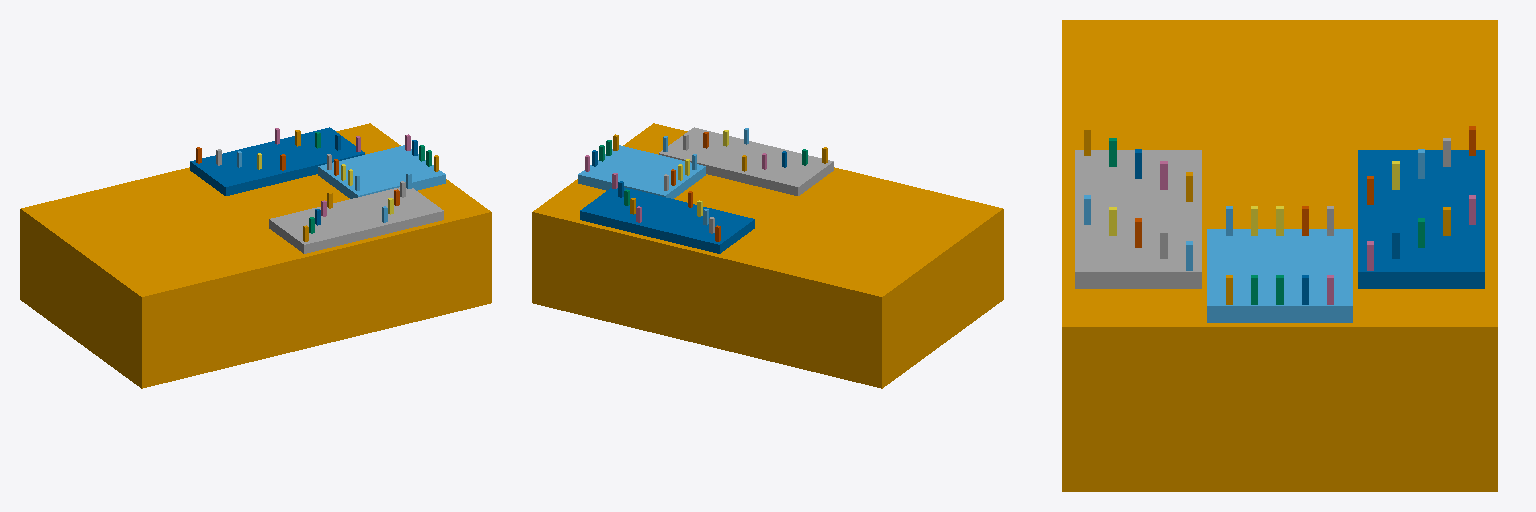
URDF robot description (carritov2):
<?xml version="1.0"?>
<robot name="carritov2">

  <link name="chasis1">
    <inertial>
      <origin xyz="0 0 0" rpy="0 0 0"/>
      <mass value="1.0" />
      <inertia ixx="0.0741666666667" ixy="0.0" ixz="0.0" iyy="0.0585416666667" iyz="0.0" izz="0.0260416666667"/>
    </inertial>
    <visual>
      <geometry>
        <box size="2 1.2 0.5"/>
      </geometry>
      <origin rpy="0 0 0" xyz="0 0 0"/>
    </visual>
  </link>

  <link name="chasis2">
    <inertial>
      <origin xyz="0 0 0" rpy="0 0 0"/>
      <mass value="1.0" />
      <inertia ixx="0.0741666666667" ixy="0.0" ixz="0.0" iyy="0.0585416666667" iyz="0.0" izz="0.0260416666667"/>
    </inertial>
    <visual>
      <geometry>
        <box size="0.5 0.4 0.05"/>
      </geometry>
      <material name="aluminium"/>
      <origin rpy="0 0 0" xyz="0.72 0 0.275"/>
    </visual>
  </link>

  <joint name="chasis1_to_chasis2" type="fixed">
    <parent link="chasis1"/>
    <child link="chasis2"/>
  </joint>

  <link name="soporte1_base1">
    <inertial>
      <origin xyz="0 0 0" rpy="0 0 0"/>
      <mass value="1.0" />
      <inertia ixx="0.0741666666667" ixy="0.0" ixz="0.0" iyy="0.0585416666667" iyz="0.0" izz="0.0260416666667"/>
    </inertial>
    <visual>
      <geometry>
        <box size="0.02 0.02 0.08"/>
      </geometry>
      <origin rpy="0 0 0" xyz="0.95 0 0.34"/>
    </visual>
  </link>

  <joint name="soporte1_base1_to_chasis2" type="fixed">
    <parent link="chasis2"/>
    <child link="soporte1_base1"/>
  </joint>

  <link name="soporte1_base2">
    <inertial>
      <origin xyz="0 0 0" rpy="0 0 0"/>
      <mass value="1.0" />
      <inertia ixx="0.0741666666667" ixy="0.0" ixz="0.0" iyy="0.0585416666667" iyz="0.0" izz="0.0260416666667"/>
    </inertial>
    <visual>
      <geometry>
        <box size="0.02 0.02 0.08"/>
      </geometry>
      <origin rpy="0 0 0" xyz="0.5 0 0.34"/>
    </visual>
  </link>

  <joint name="soporte1_base2_to_chasis2" type="fixed">
    <parent link="chasis2"/>
    <child link="soporte1_base2"/>
  </joint>

  <link name="soporte2_base1">
    <inertial>
      <origin xyz="0 0 0" rpy="0 0 0"/>
      <mass value="1.0" />
      <inertia ixx="0.0741666666667" ixy="0.0" ixz="0.0" iyy="0.0585416666667" iyz="0.0" izz="0.0260416666667"/>
    </inertial>
    <visual>
      <geometry>
        <box size="0.02 0.02 0.08"/>
      </geometry>
      <origin rpy="0 0 0" xyz="0.95 0.07 0.34"/>
    </visual>
  </link>

  <joint name="soporte2_base1_to_chasis2" type="fixed">
    <parent link="chasis2"/>
    <child link="soporte2_base1"/>
  </joint>

  <link name="soporte2_base2">
    <inertial>
      <origin xyz="0 0 0" rpy="0 0 0"/>
      <mass value="1.0" />
      <inertia ixx="0.0741666666667" ixy="0.0" ixz="0.0" iyy="0.0585416666667" iyz="0.0" izz="0.0260416666667"/>
    </inertial>
    <visual>
      <geometry>
        <box size="0.02 0.02 0.08"/>
      </geometry>
      <origin rpy="0 0 0" xyz="0.5 0.07 0.34"/>
    </visual>
  </link>

  <joint name="soporte2_base2_to_chasis2" type="fixed">
    <parent link="chasis2"/>
    <child link="soporte2_base2"/>
  </joint>

  <link name="soporte3_base1">
    <inertial>
      <origin xyz="0 0 0" rpy="0 0 0"/>
      <mass value="1.0" />
      <inertia ixx="0.0741666666667" ixy="0.0" ixz="0.0" iyy="0.0585416666667" iyz="0.0" izz="0.0260416666667"/>
    </inertial>
    <visual>
      <geometry>
        <box size="0.02 0.02 0.08"/>
      </geometry>
      <origin rpy="0 0 0" xyz="0.95 0.14 0.34"/>
    </visual>
  </link>

  <joint name="soporte3_base1_to_chasis2" type="fixed">
    <parent link="chasis2"/>
    <child link="soporte3_base1"/>
  </joint>

  <link name="soporte3_base2">
    <inertial>
      <origin xyz="0 0 0" rpy="0 0 0"/>
      <mass value="1.0" />
      <inertia ixx="0.0741666666667" ixy="0.0" ixz="0.0" iyy="0.0585416666667" iyz="0.0" izz="0.0260416666667"/>
    </inertial>
    <visual>
      <geometry>
        <box size="0.02 0.02 0.08"/>
      </geometry>
      <origin rpy="0 0 0" xyz="0.5 0.14 0.34"/>
    </visual>
  </link>

  <joint name="soporte3_base2_to_chasis2" type="fixed">
    <parent link="chasis2"/>
    <child link="soporte3_base2"/>
  </joint>

  <link name="soporte4_base1">
    <inertial>
      <origin xyz="0 0 0" rpy="0 0 0"/>
      <mass value="1.0" />
      <inertia ixx="0.0741666666667" ixy="0.0" ixz="0.0" iyy="0.0585416666667" iyz="0.0" izz="0.0260416666667"/>
    </inertial>
    <visual>
      <geometry>
        <box size="0.02 0.02 0.08"/>
      </geometry>
      <origin rpy="0 0 0" xyz="0.95 -0.14 0.34"/>
    </visual>
  </link>

  <joint name="soporte4_base1_to_chasis2" type="fixed">
    <parent link="chasis2"/>
    <child link="soporte4_base1"/>
  </joint>

  <link name="soporte4_base2">
    <inertial>
      <origin xyz="0 0 0" rpy="0 0 0"/>
      <mass value="1.0" />
      <inertia ixx="0.0741666666667" ixy="0.0" ixz="0.0" iyy="0.0585416666667" iyz="0.0" izz="0.0260416666667"/>
    </inertial>
    <visual>
      <geometry>
        <box size="0.02 0.02 0.08"/>
      </geometry>
      <origin rpy="0 0 0" xyz="0.5 -0.14 0.34"/>
    </visual>
  </link>

  <joint name="soporte4_base2_to_chasis2" type="fixed">
    <parent link="chasis2"/>
    <child link="soporte4_base2"/>
  </joint>

  <link name="soporte5_base1">
    <inertial>
      <origin xyz="0 0 0" rpy="0 0 0"/>
      <mass value="1.0" />
      <inertia ixx="0.0741666666667" ixy="0.0" ixz="0.0" iyy="0.0585416666667" iyz="0.0" izz="0.0260416666667"/>
    </inertial>
    <visual>
      <geometry>
        <box size="0.02 0.02 0.08"/>
      </geometry>
      <origin rpy="0 0 0" xyz="0.95 -0.07 0.34"/>
    </visual>
  </link>

  <joint name="soporte5_base1_to_chasis2" type="fixed">
    <parent link="chasis2"/>
    <child link="soporte5_base1"/>
  </joint>

  <link name="soporte5_base2">
    <inertial>
      <origin xyz="0 0 0" rpy="0 0 0"/>
      <mass value="1.0" />
      <inertia ixx="0.0741666666667" ixy="0.0" ixz="0.0" iyy="0.0585416666667" iyz="0.0" izz="0.0260416666667"/>
    </inertial>
    <visual>
      <geometry>
        <box size="0.02 0.02 0.08"/>
      </geometry>
      <origin rpy="0 0 0" xyz="0.5 -0.07 0.34"/>
    </visual>
  </link>

  <joint name="soporte5_base2_to_chasis2" type="fixed">
    <parent link="chasis2"/>
    <child link="soporte5_base2"/>
  </joint>

  <link name="chasis3">
    <inertial>
      <origin xyz="0 0 0" rpy="0 0 0"/>
      <mass value="1.0" />
      <inertia ixx="0.0741666666667" ixy="0.0" ixz="0.0" iyy="0.0585416666667" iyz="0.0" izz="0.0260416666667"/>
    </inertial>
    <visual>
      <geometry>
        <box size="0.8 0.35 0.05"/>
      </geometry>
      <material name="aluminium"/>
      <origin rpy="0 0 0" xyz="0.35 0.39 0.275"/>
    </visual>
  </link>

  <joint name="chasis1_to_chasis3" type="fixed">
    <parent link="chasis1"/>
    <child link="chasis3"/>
  </joint>

  <link name="soporte1_base3">
    <inertial>
      <origin xyz="0 0 0" rpy="0 0 0"/>
      <mass value="1.0" />
      <inertia ixx="0.0741666666667" ixy="0.0" ixz="0.0" iyy="0.0585416666667" iyz="0.0" izz="0.0260416666667"/>
    </inertial>
    <visual>
      <geometry>
        <box size="0.02 0.02 0.08"/>
      </geometry>
      <origin rpy="0 0 0" xyz="-0.02 0.53 0.34"/>
    </visual>
  </link>

  <joint name="soporte1_base3_to_chasis3" type="fixed">
    <parent link="chasis3"/>
    <child link="soporte1_base3"/>
  </joint>

  <link name="soporte1_base4">
    <inertial>
      <origin xyz="0 0 0" rpy="0 0 0"/>
      <mass value="1.0" />
      <inertia ixx="0.0741666666667" ixy="0.0" ixz="0.0" iyy="0.0585416666667" iyz="0.0" izz="0.0260416666667"/>
    </inertial>
    <visual>
      <geometry>
        <box size="0.02 0.02 0.08"/>
      </geometry>
      <origin rpy="0 0 0" xyz="0.43 0.53 0.34"/>
    </visual>
  </link>

  <joint name="soporte1_base4_to_chasis3" type="fixed">
    <parent link="chasis3"/>
    <child link="soporte1_base4"/>
  </joint>

  <link name="soporte2_base3">
    <inertial>
      <origin xyz="0 0 0" rpy="0 0 0"/>
      <mass value="1.0" />
      <inertia ixx="0.0741666666667" ixy="0.0" ixz="0.0" iyy="0.0585416666667" iyz="0.0" izz="0.0260416666667"/>
    </inertial>
    <visual>
      <geometry>
        <box size="0.02 0.02 0.08"/>
      </geometry>
      <origin rpy="0 0 0" xyz="0.055 0.46 0.34"/>
    </visual>
  </link>

  <joint name="soporte2_base3_to_chasis3" type="fixed">
    <parent link="chasis3"/>
    <child link="soporte2_base3"/>
  </joint>

  <link name="soporte2_base4">
    <inertial>
      <origin xyz="0 0 0" rpy="0 0 0"/>
      <mass value="1.0" />
      <inertia ixx="0.0741666666667" ixy="0.0" ixz="0.0" iyy="0.0585416666667" iyz="0.0" izz="0.0260416666667"/>
    </inertial>
    <visual>
      <geometry>
        <box size="0.02 0.02 0.08"/>
      </geometry>
      <origin rpy="0 0 0" xyz="0.505 0.46 0.34"/>
    </visual>
  </link>

  <joint name="soporte2_base4_to_chasis3" type="fixed">
    <parent link="chasis3"/>
    <child link="soporte2_base4"/>
  </joint>

  <link name="soporte3_base3">
    <inertial>
      <origin xyz="0 0 0" rpy="0 0 0"/>
      <mass value="1.0" />
      <inertia ixx="0.0741666666667" ixy="0.0" ixz="0.0" iyy="0.0585416666667" iyz="0.0" izz="0.0260416666667"/>
    </inertial>
    <visual>
      <geometry>
        <box size="0.02 0.02 0.08"/>
      </geometry>
      <origin rpy="0 0 0" xyz="0.13 0.39 0.34"/>
    </visual>
  </link>

  <joint name="soporte3_base3_to_chasis3" type="fixed">
    <parent link="chasis3"/>
    <child link="soporte3_base3"/>
  </joint>

  <link name="soporte3_base4">
    <inertial>
      <origin xyz="0 0 0" rpy="0 0 0"/>
      <mass value="1.0" />
      <inertia ixx="0.0741666666667" ixy="0.0" ixz="0.0" iyy="0.0585416666667" iyz="0.0" izz="0.0260416666667"/>
    </inertial>
    <visual>
      <geometry>
        <box size="0.02 0.02 0.08"/>
      </geometry>
      <origin rpy="0 0 0" xyz="0.58 0.39 0.34"/>
    </visual>
  </link>

  <joint name="soporte3_base4_to_chasis3" type="fixed">
    <parent link="chasis3"/>
    <child link="soporte3_base4"/>
  </joint>

  <link name="soporte4_base3">
    <inertial>
      <origin xyz="0 0 0" rpy="0 0 0"/>
      <mass value="1.0" />
      <inertia ixx="0.0741666666667" ixy="0.0" ixz="0.0" iyy="0.0585416666667" iyz="0.0" izz="0.0260416666667"/>
    </inertial>
    <visual>
      <geometry>
        <box size="0.02 0.02 0.08"/>
      </geometry>
      <origin rpy="0 0 0" xyz="0.205 0.32 0.34"/>
    </visual>
  </link>

  <joint name="soporte4_base3_to_chasis3" type="fixed">
    <parent link="chasis3"/>
    <child link="soporte4_base3"/>
  </joint>

  <link name="soporte4_base4">
    <inertial>
      <origin xyz="0 0 0" rpy="0 0 0"/>
      <mass value="1.0" />
      <inertia ixx="0.0741666666667" ixy="0.0" ixz="0.0" iyy="0.0585416666667" iyz="0.0" izz="0.0260416666667"/>
    </inertial>
    <visual>
      <geometry>
        <box size="0.02 0.02 0.08"/>
      </geometry>
      <origin rpy="0 0 0" xyz="0.655 0.32 0.34"/>
    </visual>
  </link>

  <joint name="soporte4_base4_to_chasis3" type="fixed">
    <parent link="chasis3"/>
    <child link="soporte4_base4"/>
  </joint>

  <link name="soporte5_base3">
    <inertial>
      <origin xyz="0 0 0" rpy="0 0 0"/>
      <mass value="1.0" />
      <inertia ixx="0.0741666666667" ixy="0.0" ixz="0.0" iyy="0.0585416666667" iyz="0.0" izz="0.0260416666667"/>
    </inertial>
    <visual>
      <geometry>
        <box size="0.02 0.02 0.08"/>
      </geometry>
      <origin rpy="0 0 0" xyz="0.30 0.25 0.34"/>
    </visual>
  </link>

  <joint name="soporte5_base3_to_chasis3" type="fixed">
    <parent link="chasis3"/>
    <child link="soporte5_base3"/>
  </joint>

  <link name="soporte5_base4">
    <inertial>
      <origin xyz="0 0 0" rpy="0 0 0"/>
      <mass value="1.0" />
      <inertia ixx="0.0741666666667" ixy="0.0" ixz="0.0" iyy="0.0585416666667" iyz="0.0" izz="0.0260416666667"/>
    </inertial>
    <visual>
      <geometry>
        <box size="0.02 0.02 0.08"/>
      </geometry>
      <origin rpy="0 0 0" xyz="0.73 0.25 0.34"/>
    </visual>
  </link>

  <joint name="soporte5_base4_to_chasis3" type="fixed">
    <parent link="chasis3"/>
    <child link="soporte5_base4"/>
  </joint>

  <link name="chasis4">
    <inertial>
      <origin xyz="0 0 0" rpy="0 0 0"/>
      <mass value="1.0" />
      <inertia ixx="0.0741666666667" ixy="0.0" ixz="0.0" iyy="0.0585416666667" iyz="0.0" izz="0.0260416666667"/>
    </inertial>
    <visual>
      <geometry>
        <box size="0.8 0.35 0.05"/>
      </geometry>
      <material name="aluminium"/>
      <origin rpy="0 0 0" xyz="0.35 -0.39 0.275"/>
    </visual>
  </link>

  <joint name="chasis1_to_chasis4" type="fixed">
    <parent link="chasis1"/>
    <child link="chasis4"/>
  </joint>

  <link name="soporte1_base5">
    <inertial>
      <origin xyz="0 0 0" rpy="0 0 0"/>
      <mass value="1.0" />
      <inertia ixx="0.0741666666667" ixy="0.0" ixz="0.0" iyy="0.0585416666667" iyz="0.0" izz="0.0260416666667"/>
    </inertial>
    <visual>
      <geometry>
        <box size="0.02 0.02 0.08"/>
      </geometry>
      <origin rpy="0 0 0" xyz="-0.02 -0.53 0.34"/>
    </visual>
  </link>

  <joint name="soporte1_base5_to_chasis4" type="fixed">
    <parent link="chasis4"/>
    <child link="soporte1_base5"/>
  </joint>

  <link name="soporte1_base6">
    <inertial>
      <origin xyz="0 0 0" rpy="0 0 0"/>
      <mass value="1.0" />
      <inertia ixx="0.0741666666667" ixy="0.0" ixz="0.0" iyy="0.0585416666667" iyz="0.0" izz="0.0260416666667"/>
    </inertial>
    <visual>
      <geometry>
        <box size="0.02 0.02 0.08"/>
      </geometry>
      <origin rpy="0 0 0" xyz="0.43 -0.53 0.34"/>
    </visual>
  </link>

  <joint name="soporte1_base6_to_chasis4" type="fixed">
    <parent link="chasis4"/>
    <child link="soporte1_base6"/>
  </joint>

  <link name="soporte2_base5">
    <inertial>
      <origin xyz="0 0 0" rpy="0 0 0"/>
      <mass value="1.0" />
      <inertia ixx="0.0741666666667" ixy="0.0" ixz="0.0" iyy="0.0585416666667" iyz="0.0" izz="0.0260416666667"/>
    </inertial>
    <visual>
      <geometry>
        <box size="0.02 0.02 0.08"/>
      </geometry>
      <origin rpy="0 0 0" xyz="0.055 -0.46 0.34"/>
    </visual>
  </link>

  <joint name="soporte2_base5_to_chasis4" type="fixed">
    <parent link="chasis4"/>
    <child link="soporte2_base5"/>
  </joint>

  <link name="soporte2_base6">
    <inertial>
      <origin xyz="0 0 0" rpy="0 0 0"/>
      <mass value="1.0" />
      <inertia ixx="0.0741666666667" ixy="0.0" ixz="0.0" iyy="0.0585416666667" iyz="0.0" izz="0.0260416666667"/>
    </inertial>
    <visual>
      <geometry>
        <box size="0.02 0.02 0.08"/>
      </geometry>
      <origin rpy="0 0 0" xyz="0.505 -0.46 0.34"/>
    </visual>
  </link>

  <joint name="soporte2_base6_to_chasis4" type="fixed">
    <parent link="chasis4"/>
    <child link="soporte2_base6"/>
  </joint>

  <link name="soporte3_base5">
    <inertial>
      <origin xyz="0 0 0" rpy="0 0 0"/>
      <mass value="1.0" />
      <inertia ixx="0.0741666666667" ixy="0.0" ixz="0.0" iyy="0.0585416666667" iyz="0.0" izz="0.0260416666667"/>
    </inertial>
    <visual>
      <geometry>
        <box size="0.02 0.02 0.08"/>
      </geometry>
      <origin rpy="0 0 0" xyz="0.13 -0.39 0.34"/>
    </visual>
  </link>

  <joint name="soporte3_base5_to_chasis4" type="fixed">
    <parent link="chasis4"/>
    <child link="soporte3_base5"/>
  </joint>

  <link name="soporte3_base6">
    <inertial>
      <origin xyz="0 0 0" rpy="0 0 0"/>
      <mass value="1.0" />
      <inertia ixx="0.0741666666667" ixy="0.0" ixz="0.0" iyy="0.0585416666667" iyz="0.0" izz="0.0260416666667"/>
    </inertial>
    <visual>
      <geometry>
        <box size="0.02 0.02 0.08"/>
      </geometry>
      <origin rpy="0 0 0" xyz="0.58 -0.39 0.34"/>
    </visual>
  </link>

  <joint name="soporte3_base6_to_chasis4" type="fixed">
    <parent link="chasis4"/>
    <child link="soporte3_base6"/>
  </joint>

  <link name="soporte4_base5">
    <inertial>
      <origin xyz="0 0 0" rpy="0 0 0"/>
      <mass value="1.0" />
      <inertia ixx="0.0741666666667" ixy="0.0" ixz="0.0" iyy="0.0585416666667" iyz="0.0" izz="0.0260416666667"/>
    </inertial>
    <visual>
      <geometry>
        <box size="0.02 0.02 0.08"/>
      </geometry>
      <origin rpy="0 0 0" xyz="0.205 -0.32 0.34"/>
    </visual>
  </link>

  <joint name="soporte4_base5_to_chasis4" type="fixed">
    <parent link="chasis4"/>
    <child link="soporte4_base5"/>
  </joint>

  <link name="soporte4_base6">
    <inertial>
      <origin xyz="0 0 0" rpy="0 0 0"/>
      <mass value="1.0" />
      <inertia ixx="0.0741666666667" ixy="0.0" ixz="0.0" iyy="0.0585416666667" iyz="0.0" izz="0.0260416666667"/>
    </inertial>
    <visual>
      <geometry>
        <box size="0.02 0.02 0.08"/>
      </geometry>
      <origin rpy="0 0 0" xyz="0.655 -0.32 0.34"/>
    </visual>
  </link>

  <joint name="soporte4_base6_to_chasis4" type="fixed">
    <parent link="chasis4"/>
    <child link="soporte4_base6"/>
  </joint>

  <link name="soporte5_base5">
    <inertial>
      <origin xyz="0 0 0" rpy="0 0 0"/>
      <mass value="1.0" />
      <inertia ixx="0.0741666666667" ixy="0.0" ixz="0.0" iyy="0.0585416666667" iyz="0.0" izz="0.0260416666667"/>
    </inertial>
    <visual>
      <geometry>
        <box size="0.02 0.02 0.08"/>
      </geometry>
      <origin rpy="0 0 0" xyz="0.28 -0.25 0.34"/>
    </visual>
  </link>

  <joint name="soporte5_base5_to_chasis4" type="fixed">
    <parent link="chasis4"/>
    <child link="soporte5_base5"/>
  </joint>

  <link name="soporte5_base6">
    <inertial>
      <origin xyz="0 0 0" rpy="0 0 0"/>
      <mass value="1.0" />
      <inertia ixx="0.0741666666667" ixy="0.0" ixz="0.0" iyy="0.0585416666667" iyz="0.0" izz="0.0260416666667"/>
    </inertial>
    <visual>
      <geometry>
        <box size="0.02 0.02 0.08"/>
      </geometry>
      <origin rpy="0 0 0" xyz="0.73 -0.25 0.34"/>
    </visual>
  </link>

  <joint name="soporte5_base6_to_chasis4" type="fixed">
    <parent link="chasis4"/>
    <child link="soporte5_base6"/>
  </joint>



  <!--<gazebo>
    <plugin name="gazebo_ros_control" filename="libgazebo_ros_control.so">
      <robotNamespace>/</robotNamespace>
    </plugin>
  </gazebo>-->

  <gazebo>
    <static>true</static>
  </gazebo>

</robot>

--- Facts derived from the render (not from the file) ---
Views: 3 orthographic renders of the robot side by side, from view 1: azimuth 30°, elevation 25°; view 2: azimuth 150°, elevation 25°; view 3: azimuth 270°, elevation 25°.
Robot: carritov2 — 34 links, 33 joints (33 fixed); root link chasis1; default pose: every joint at zero.
Links seen in each view (by area): view 1: chasis1, chasis4, chasis3, chasis2; view 2: chasis1, chasis3, chasis4, chasis2; view 3: chasis1, chasis3, chasis4, chasis2.
Boxes of the visible links, x1,y1,x2,y2 form: chasis1: (20, 123, 491, 388); chasis4: (269, 187, 443, 253); chasis3: (190, 127, 364, 195); chasis2: (318, 145, 445, 198); chasis1: (532, 123, 1003, 388); chasis3: (580, 187, 754, 253); chasis4: (659, 127, 833, 195); chasis2: (578, 145, 705, 198); chasis1: (1062, 20, 1497, 491); chasis3: (1358, 150, 1484, 288); chasis4: (1075, 150, 1201, 288); chasis2: (1207, 229, 1352, 322).
Bounding box of the posed robot: 2 × 1.2 × 0.63 m (x, y, z).
Geometry: primitives only (box / cylinder / sphere), no mesh files.